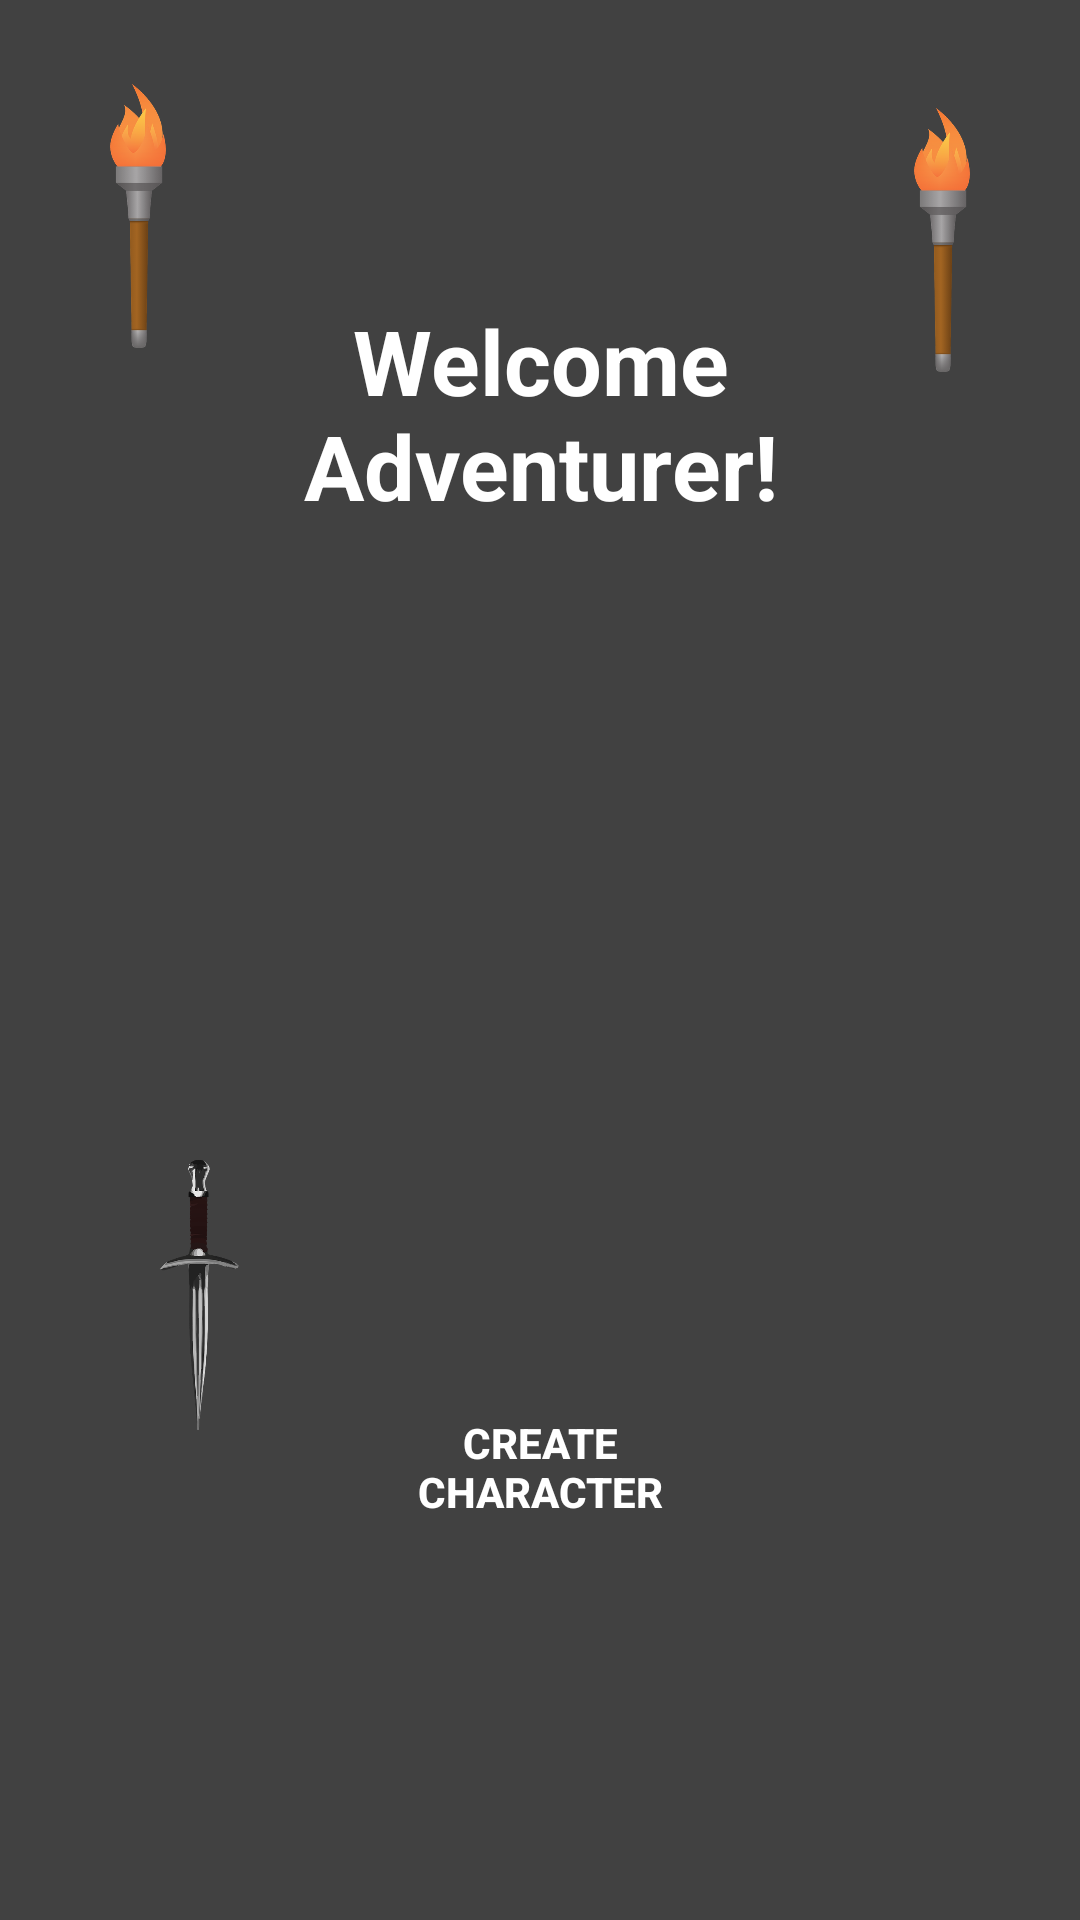

Named icons in this screenshot (1080 × 1920) and their centers, point (x, y):
dagger: point (199, 1295)
torch: point (138, 216), point (942, 240)
